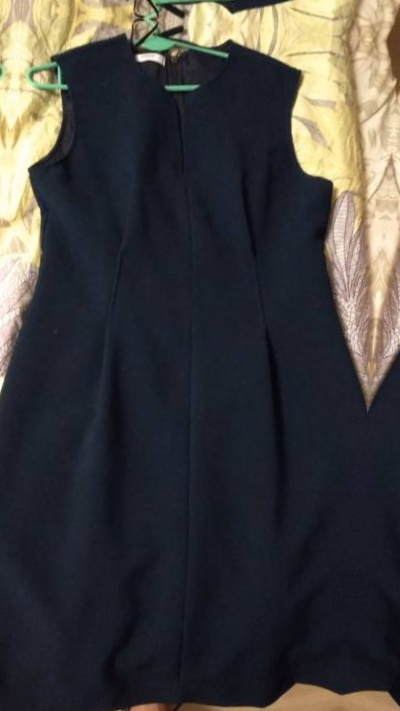Dress: (0, 17, 390, 711), (348, 54, 400, 711), (0, 0, 17, 711), (25, 0, 400, 31)
